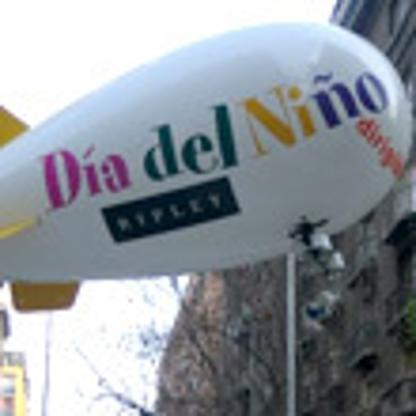Airship: (1, 24, 415, 307)
